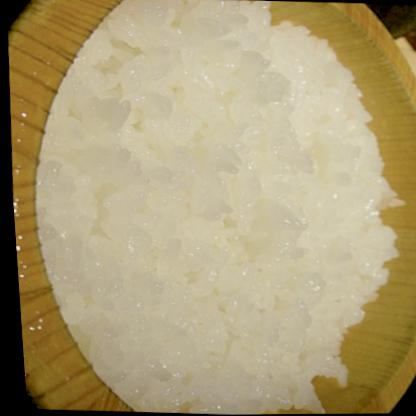rice ball: (8, 0, 415, 415)
